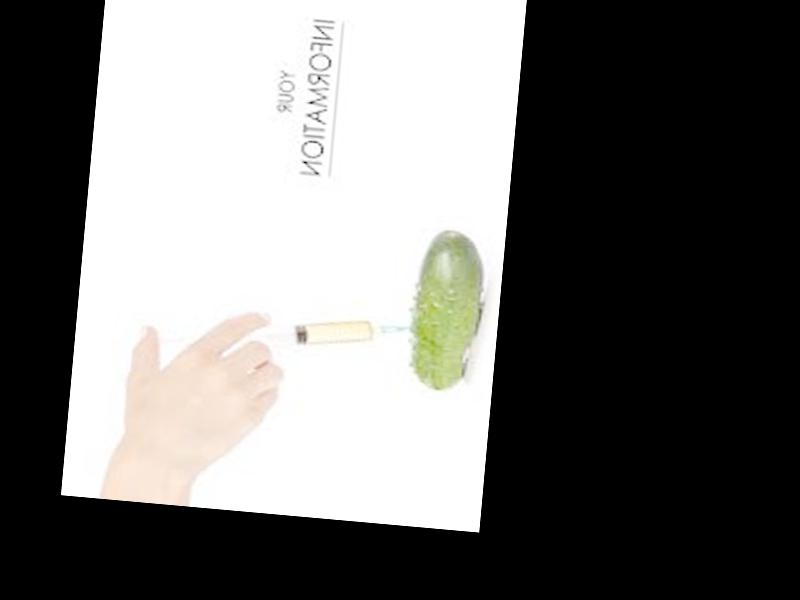Cucumber: (404, 228, 484, 394)
